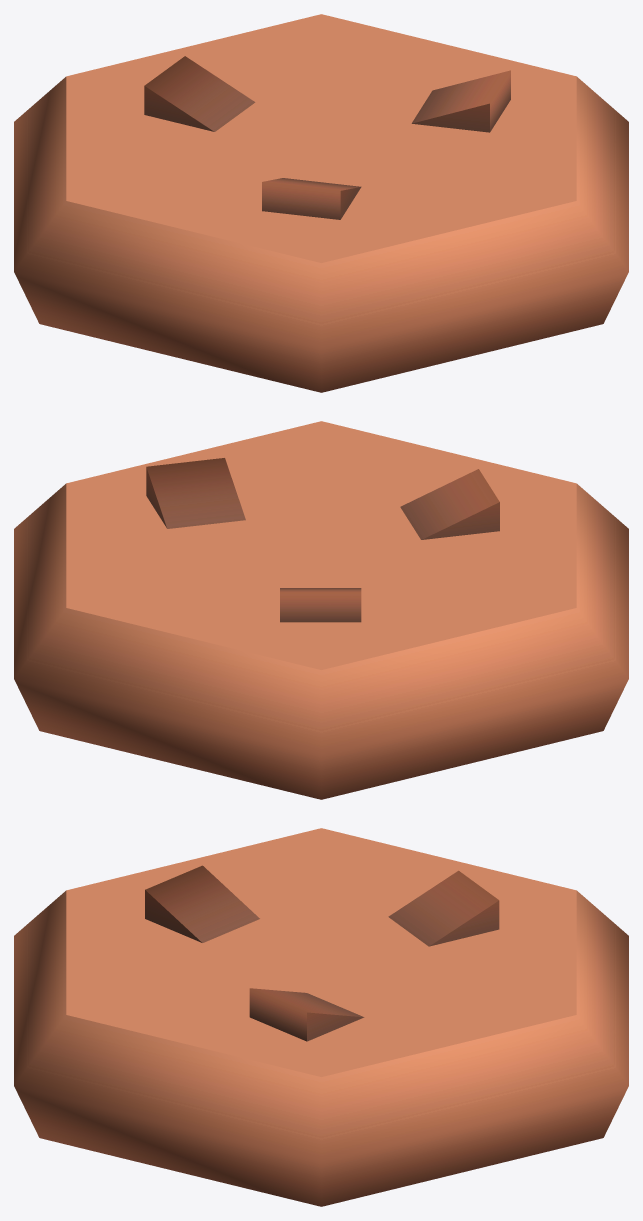
The model's file is cookie.glb.
The picture shows the model from 3 angles, top to bottom: view 1: azimuth 30°, elevation 25°; view 2: azimuth 150°, elevation 25°; view 3: azimuth 270°, elevation 25°; orthographic projection.
Parts seen in each view (by area): view 1: cookie; view 2: cookie; view 3: cookie.
Boxes of the visible parts, x1,y1,x2,y2 form: cookie: (14,14,628,392); cookie: (14,421,628,799); cookie: (14,828,628,1206).
Size of the model in its own units: 0.2197 by 0.0498 by 0.1903.
Materials: 1 (1 with a texture image).
